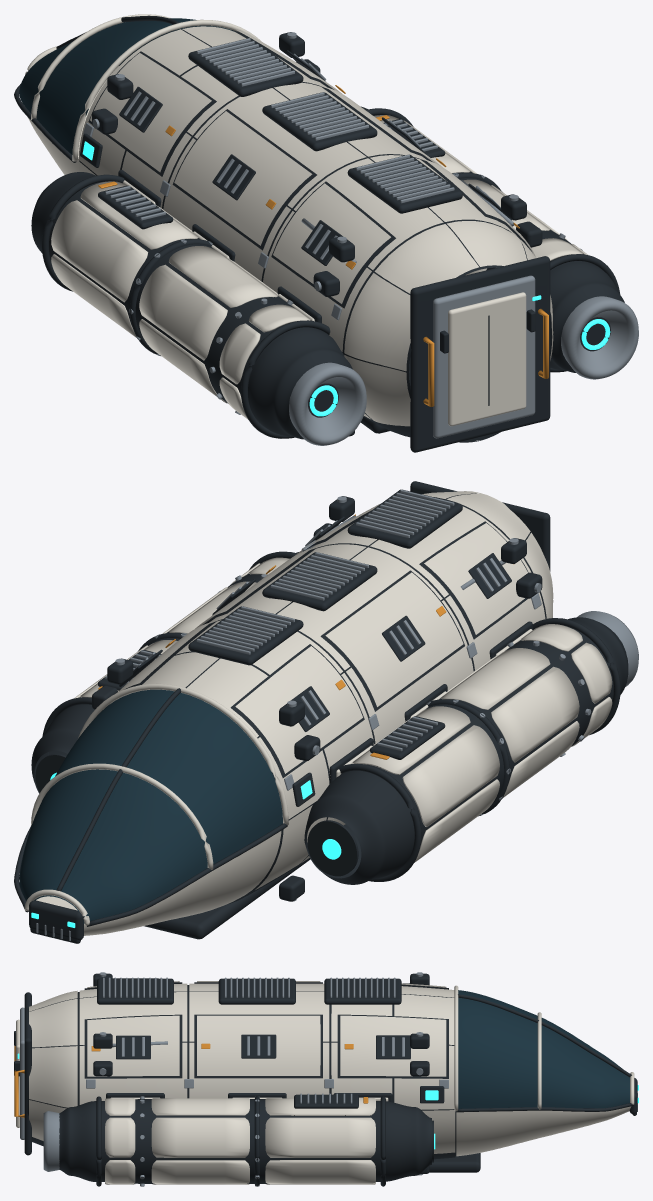
The model's file is spacecraft-exterior-lod0.glb.
3 views of the same model, one above another, from view 1: azimuth 30°, elevation 25°; view 2: azimuth 150°, elevation 25°; view 3: azimuth 270°, elevation 25° (orthographic). The views are drawn at different scales.
Visible parts, largest first — view 1: Exterior_Hull_Ceramic_WarmWhite, Exterior_Hull_Structure_Graphite, Exterior_EnginePod_-1_Ceramic_WarmWhite, Exterior_EnginePod_-1_Structure_Graphite, Exterior_Hull_Brushed_Titanium, Door_Outer, Canopy_Glass, Exterior_EnginePod_1_Structure_Graphite, Exterior_EnginePod_-1_Brushed_Titanium, Exterior_EnginePod_1_Brushed_Titanium, Exterior_EnginePod_1_Ceramic_WarmWhite, Exterior_Hull_Maintenance_Amber; view 2: Exterior_Hull_Ceramic_WarmWhite, Canopy_Glass, Exterior_Hull_Structure_Graphite, Exterior_EnginePod_-1_Ceramic_WarmWhite, Exterior_EnginePod_-1_Structure_Graphite, Exterior_Hull_Brushed_Titanium, Exterior_EnginePod_1_Structure_Graphite, Exterior_EnginePod_-1_Brushed_Titanium, Exterior_EnginePod_1_Ceramic_WarmWhite; view 3: Exterior_Hull_Ceramic_WarmWhite, Exterior_EnginePod_1_Ceramic_WarmWhite, Exterior_Hull_Structure_Graphite, Canopy_Glass, Exterior_EnginePod_1_Structure_Graphite, Exterior_Hull_Brushed_Titanium, Exterior_EnginePod_1_Brushed_Titanium, Exterior_Hull_Maintenance_Amber.
Boxes of the visible parts, x1,y1,x2,y2 form: Exterior_Hull_Ceramic_WarmWhite: (22,14,553,426); Exterior_Hull_Structure_Graphite: (14,15,552,452); Exterior_EnginePod_-1_Ceramic_WarmWhite: (51,181,314,419); Exterior_EnginePod_-1_Structure_Graphite: (31,172,352,439); Exterior_Hull_Brushed_Titanium: (83,32,539,438); Door_Outer: (448,292,526,426); Canopy_Glass: (19,18,233,154); Exterior_EnginePod_1_Structure_Graphite: (361,106,624,372); Exterior_EnginePod_-1_Brushed_Titanium: (105,186,366,445); Exterior_EnginePod_1_Brushed_Titanium: (384,119,638,379); Exterior_EnginePod_1_Ceramic_WarmWhite: (374,115,588,275); Exterior_Hull_Maintenance_Amber: (165,85,548,406); Exterior_Hull_Ceramic_WarmWhite: (24,491,553,935); Canopy_Glass: (19,689,282,923); Exterior_Hull_Structure_Graphite: (14,481,550,943); Exterior_EnginePod_-1_Ceramic_WarmWhite: (352,624,612,862); Exterior_EnginePod_-1_Structure_Graphite: (304,617,628,884); Exterior_Hull_Brushed_Titanium: (36,489,541,940); Exterior_EnginePod_1_Structure_Graphite: (31,551,298,793); Exterior_EnginePod_-1_Brushed_Titanium: (377,611,638,815); Exterior_EnginePod_1_Ceramic_WarmWhite: (74,557,289,698); Exterior_Hull_Ceramic_WarmWhite: (29,981,634,1156); Exterior_EnginePod_1_Ceramic_WarmWhite: (105,1098,375,1184); Exterior_Hull_Structure_Graphite: (14,973,637,1173); Canopy_Glass: (458,990,629,1108); Exterior_EnginePod_1_Structure_Graphite: (59,1094,433,1186); Exterior_Hull_Brushed_Titanium: (20,972,637,1175); Exterior_EnginePod_1_Brushed_Titanium: (43,1093,352,1186); Exterior_Hull_Maintenance_Amber: (14,1043,353,1117).
Size of the model in its own units: 7.8 by 4.8 by 15.6.
